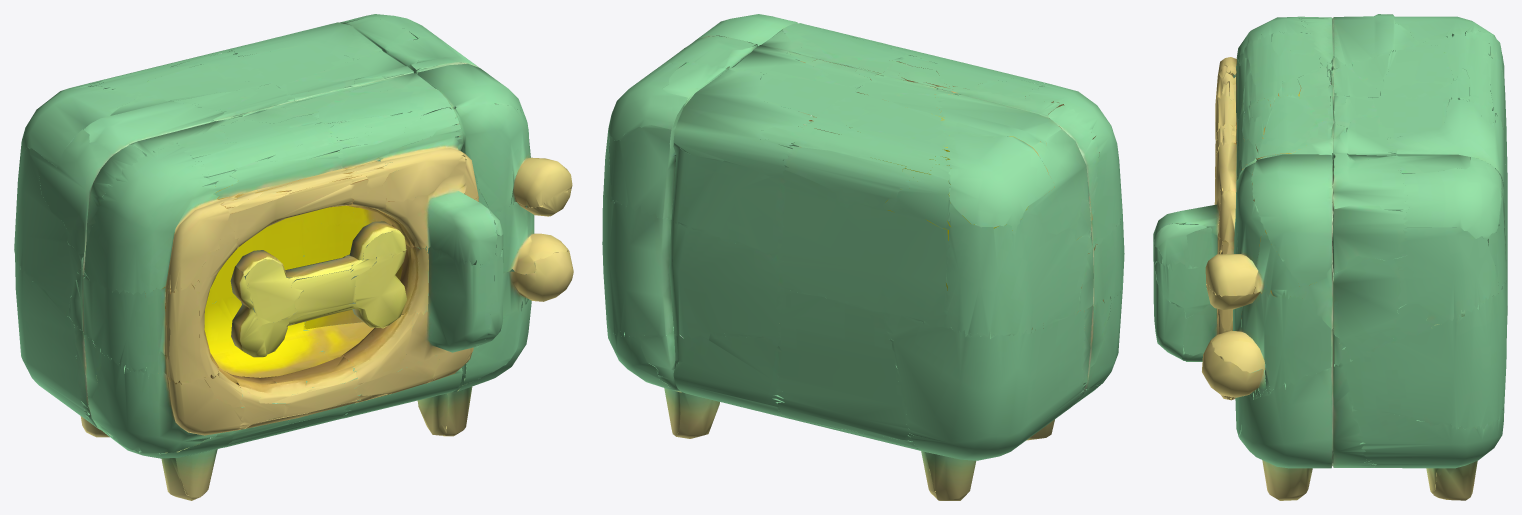
File: microwave.glb
The picture shows the model from 3 angles, left to right: view 1: azimuth 30°, elevation 25°; view 2: azimuth 150°, elevation 25°; view 3: azimuth 270°, elevation 25°; orthographic projection.
Parts seen in each view (by area): view 1: microwave; view 2: microwave; view 3: microwave.
Boxes of the visible parts, x1,y1,x2,y2 form: microwave: [14, 14, 573, 500]; microwave: [602, 14, 1124, 500]; microwave: [1153, 14, 1507, 500].
Bounding box in the file's own units: 1.32 × 1 × 0.943.
1 material, 1 textured.
